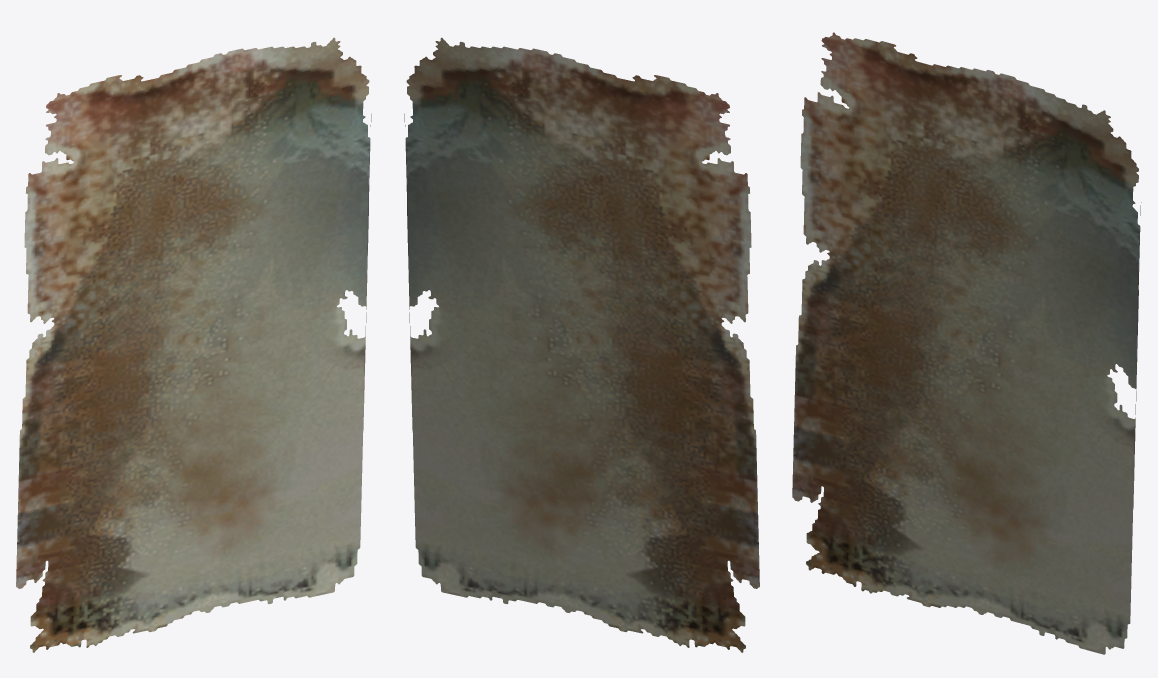
Rendered from Pos_me04.glb.
The picture shows the model from 3 angles, left to right: view 1: azimuth 30°, elevation 25°; view 2: azimuth 150°, elevation 25°; view 3: azimuth 330°, elevation 25°; orthographic projection.
Parts seen in each view (by area): view 1: _Pos_me04; view 2: _Pos_me04; view 3: _Pos_me04.
Boxes of the visible parts, x1=… form: _Pos_me04: x1=16, y1=37, x2=371, y2=652; _Pos_me04: x1=404, y1=37, x2=759, y2=652; _Pos_me04: x1=792, y1=32, x2=1141, y2=654.
Bounding box in the file's own units: 0.9226 × 1.42 × 8.07e-08.
Materials: 1 (1 with a texture image).
